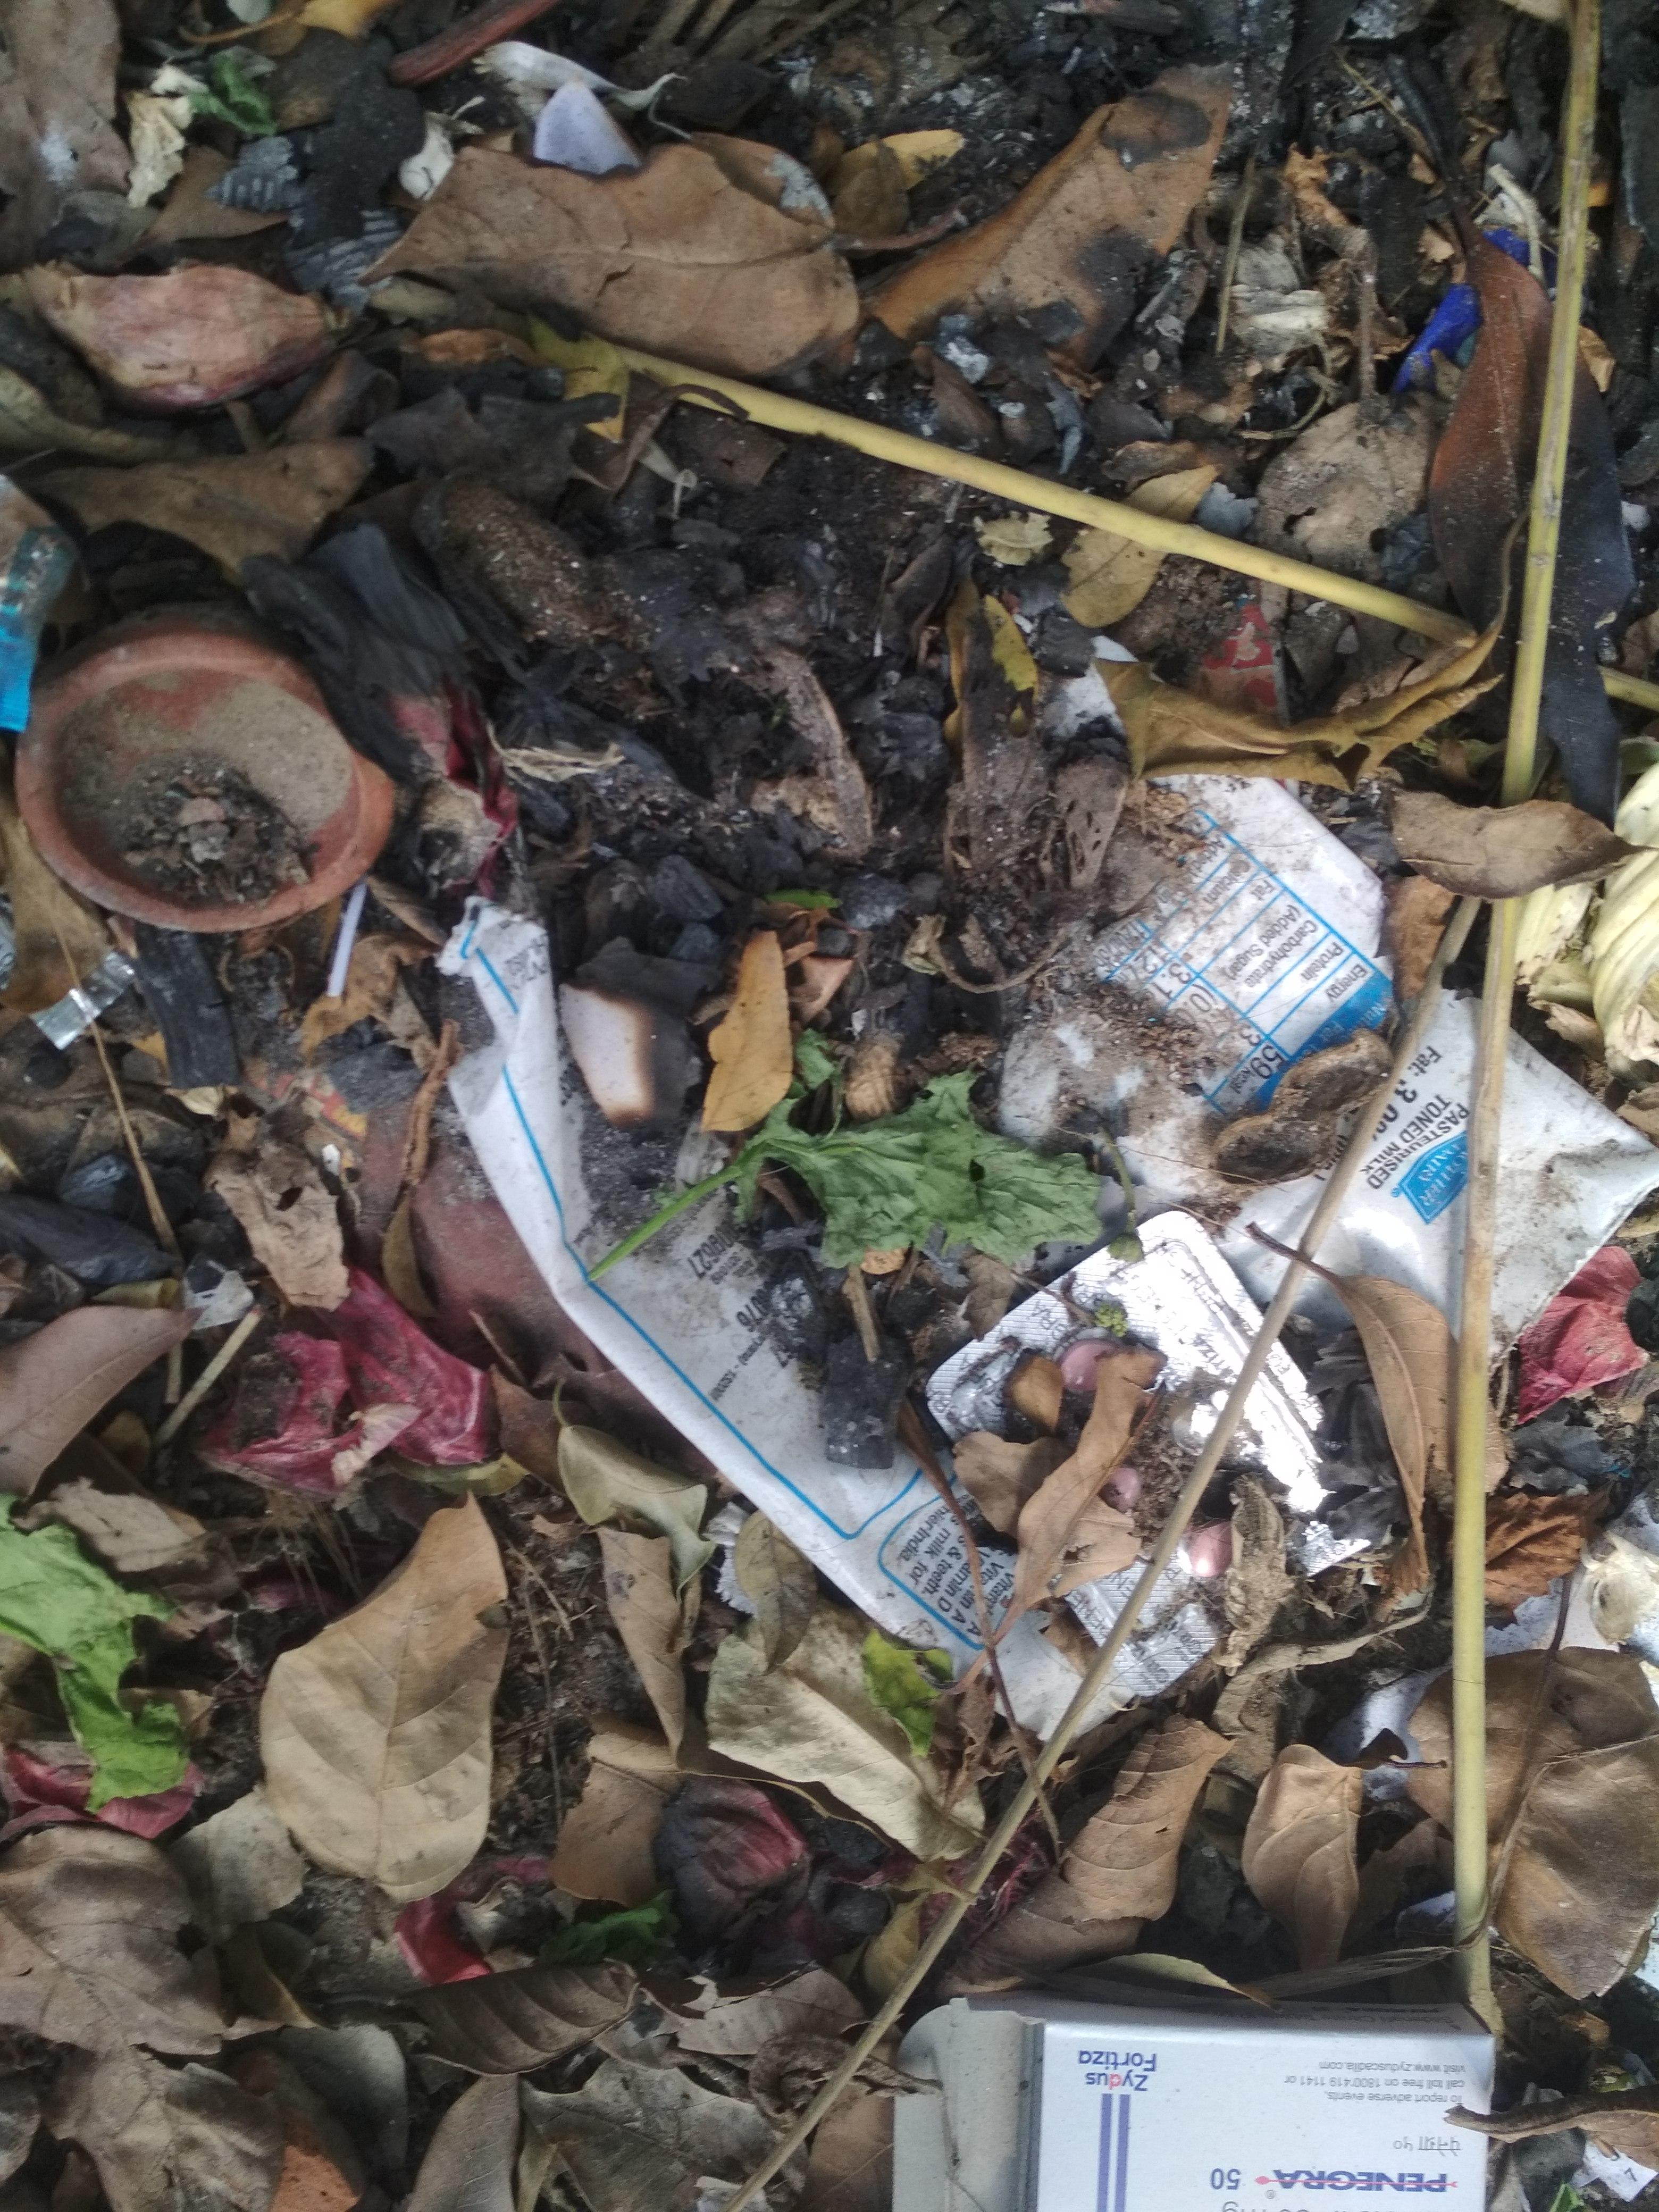trash: (383, 756, 1659, 2210)
